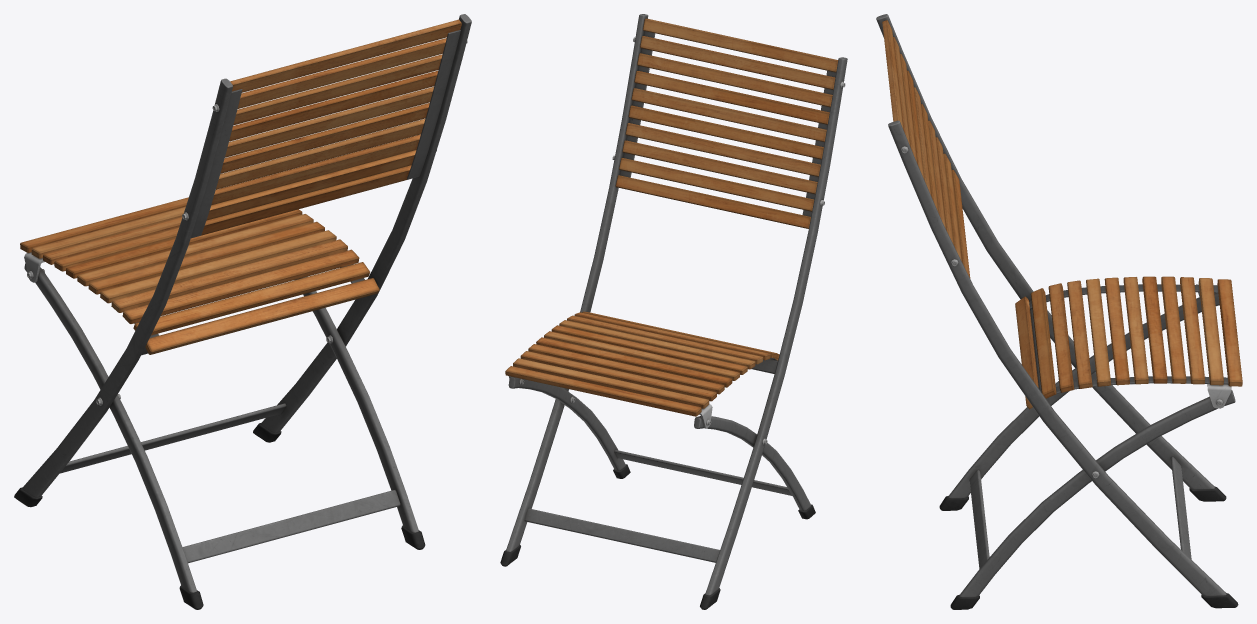
The model's file is chair.glb.
3 views of the same model, side by side, from view 1: azimuth 30°, elevation 25°; view 2: azimuth 150°, elevation 25°; view 3: azimuth 270°, elevation 25° (orthographic). The views are drawn at different scales.
Visible parts, largest first — view 1: outdoor_table_chair_set_01_chair_01.003; view 2: outdoor_table_chair_set_01_chair_01.003; view 3: outdoor_table_chair_set_01_chair_01.003.
Boxes of the visible parts, x1,y1,x2,y2 form: outdoor_table_chair_set_01_chair_01.003: (14, 14, 471, 609); outdoor_table_chair_set_01_chair_01.003: (500, 14, 847, 609); outdoor_table_chair_set_01_chair_01.003: (876, 14, 1242, 609).
Size of the model in its own units: 0.8994 by 1.74 by 1.18.
Materials: 1 (1 with a texture image).
